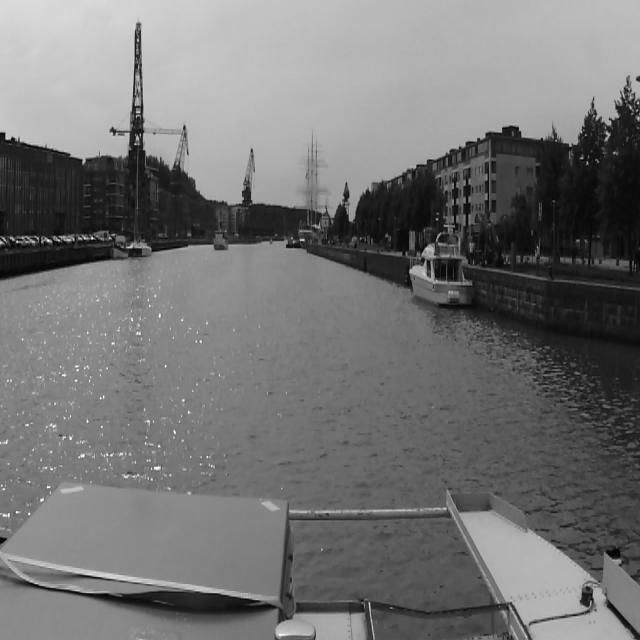ship: (409, 222, 473, 310), (294, 122, 334, 242), (128, 143, 152, 258), (110, 228, 129, 260), (213, 228, 228, 250), (284, 236, 294, 247)
